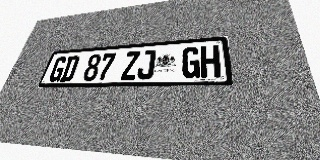7: (96, 53, 116, 81)
8: (82, 54, 103, 81)
D: (59, 55, 80, 82)
G: (181, 46, 200, 78), (47, 56, 68, 82)
H: (201, 45, 221, 78)
J: (136, 50, 156, 80)
Z: (120, 51, 141, 80)
